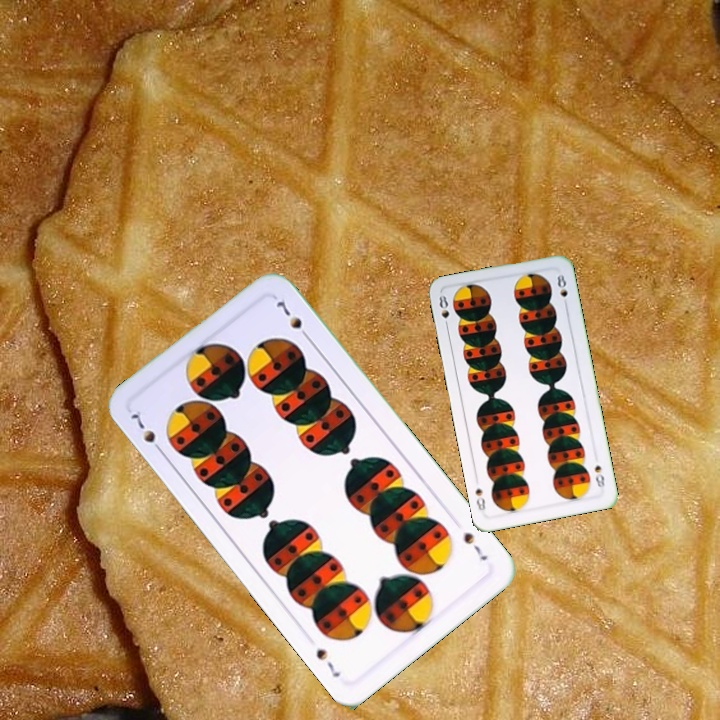S7: (126, 409, 167, 458), (459, 528, 491, 564)
S8: (435, 291, 452, 331), (591, 461, 607, 490)
